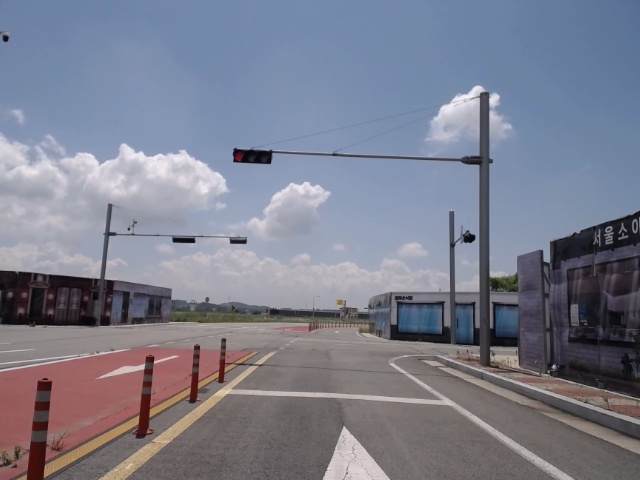red_3: (232, 148, 273, 163)
